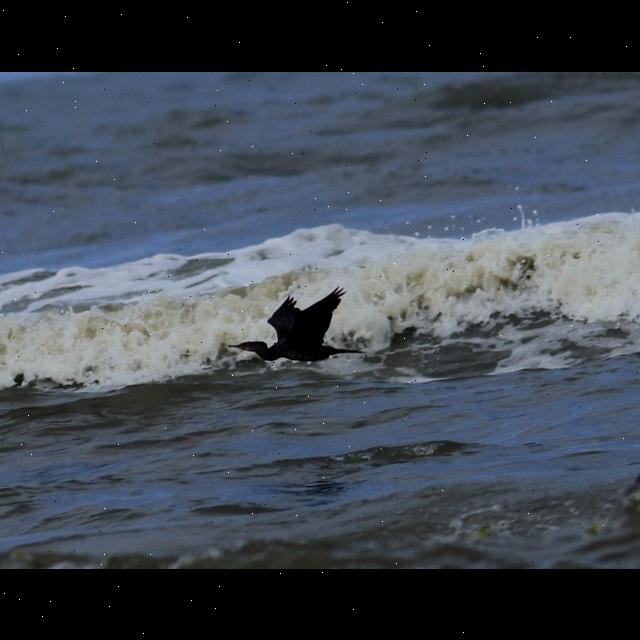cormorant: (215, 272, 371, 372)
